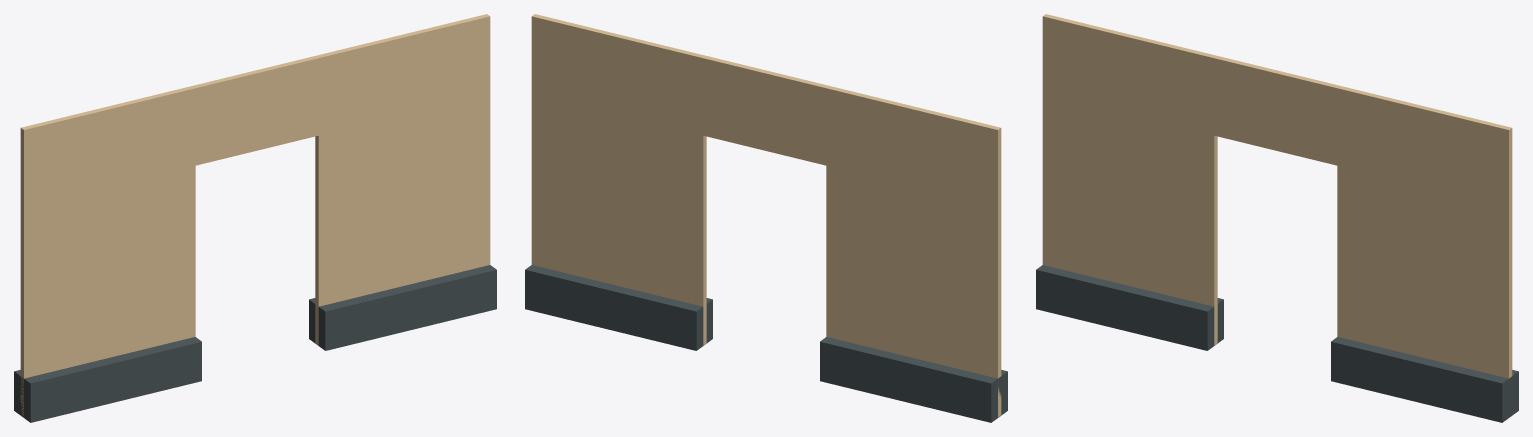
The model's file is Wall_08_Door.fbx.
The picture shows the model from 3 angles, left to right: view 1: azimuth 30°, elevation 25°; view 2: azimuth 150°, elevation 25°; view 3: azimuth 330°, elevation 25°; orthographic projection.
Visible parts, largest first — view 1: Wall_08_Door; view 2: Wall_08_Door; view 3: Wall_08_Door.
Part boxes in pixels (<box>): Wall_08_Door: <box>14,14,496,422</box>; Wall_08_Door: <box>525,14,1007,422</box>; Wall_08_Door: <box>1036,14,1518,422</box>.
Bounding box in the file's own units: 473 × 279 × 29.21.
